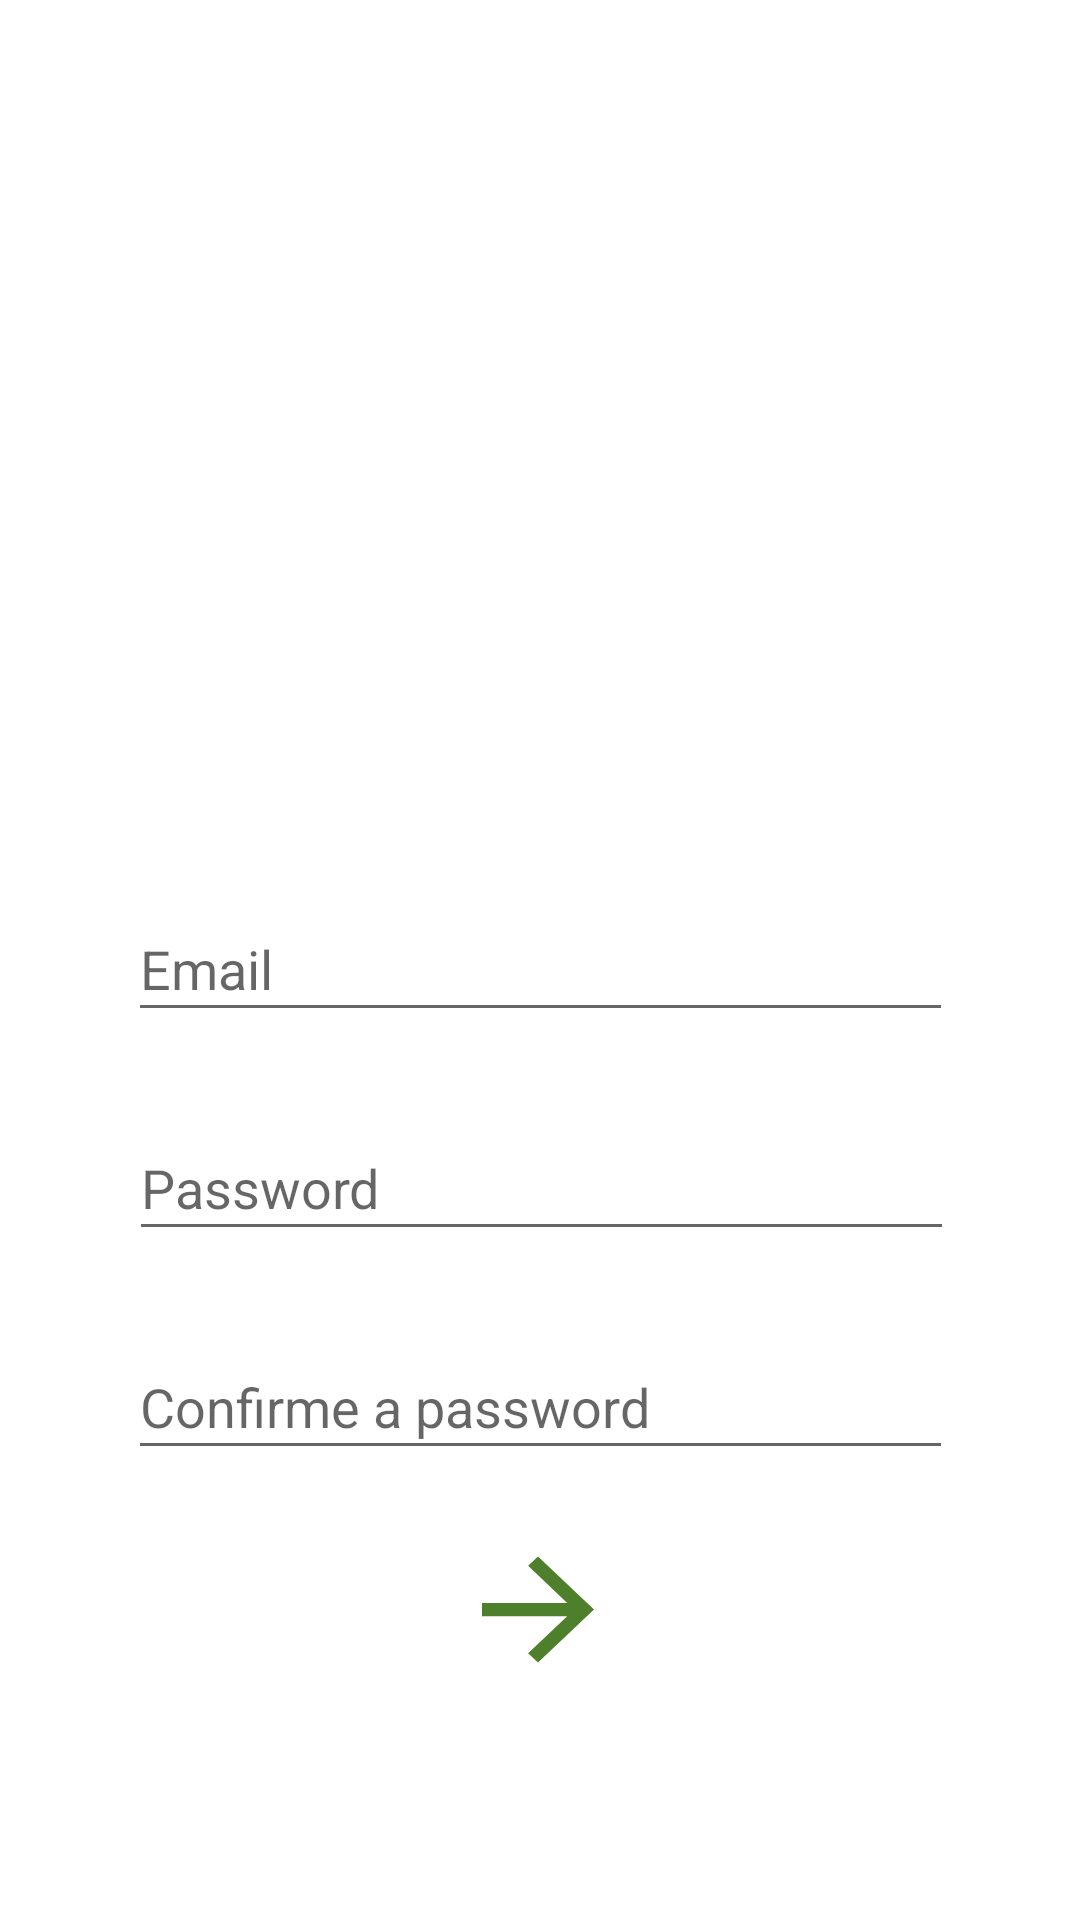

Locate icon controls on the screen. Image size 1080*1920, boxes as bbox(x1, y1, x2, y2).
arrow forward: bbox(482, 1556, 594, 1663)
